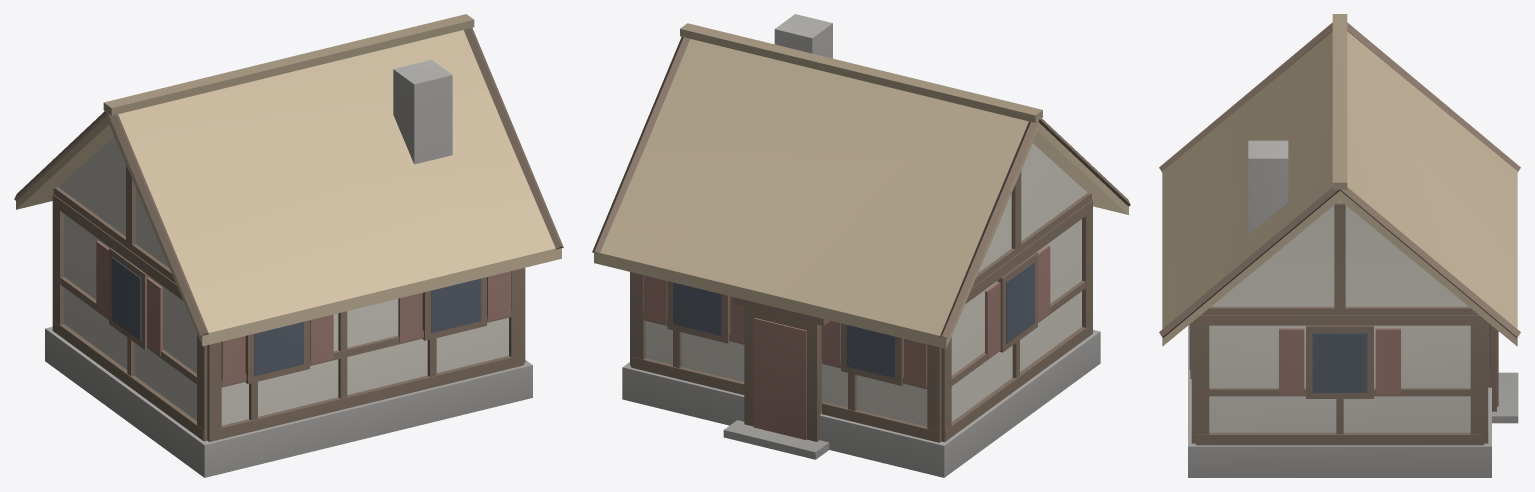
Rendered from cottage_amber.gltf.
The picture shows the model from 3 angles, left to right: view 1: azimuth 30°, elevation 25°; view 2: azimuth 150°, elevation 25°; view 3: azimuth 270°, elevation 25°; orthographic projection. The views are drawn at different scales.
Parts seen in each view (by area): view 1: Body; view 2: Body; view 3: Body.
Boxes of the visible parts, box(x1,y1,x2,y2) form: Body: box(14, 14, 563, 477); Body: box(592, 14, 1130, 477); Body: box(1159, 14, 1520, 477).
Size of the model in its own units: 6.97 by 5.84 by 6.32.
